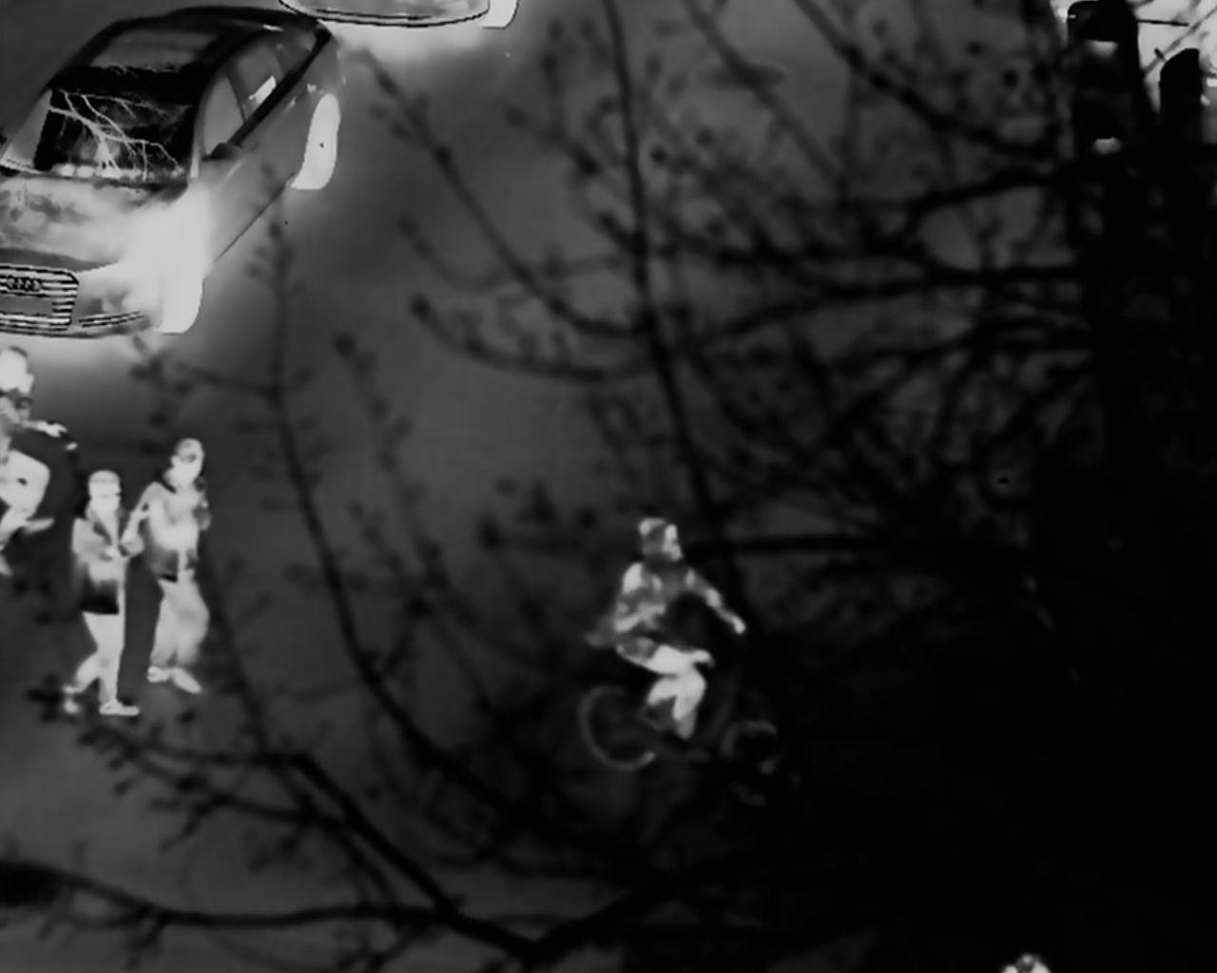person: (608, 508, 705, 755), (144, 438, 226, 687), (77, 473, 126, 715)
